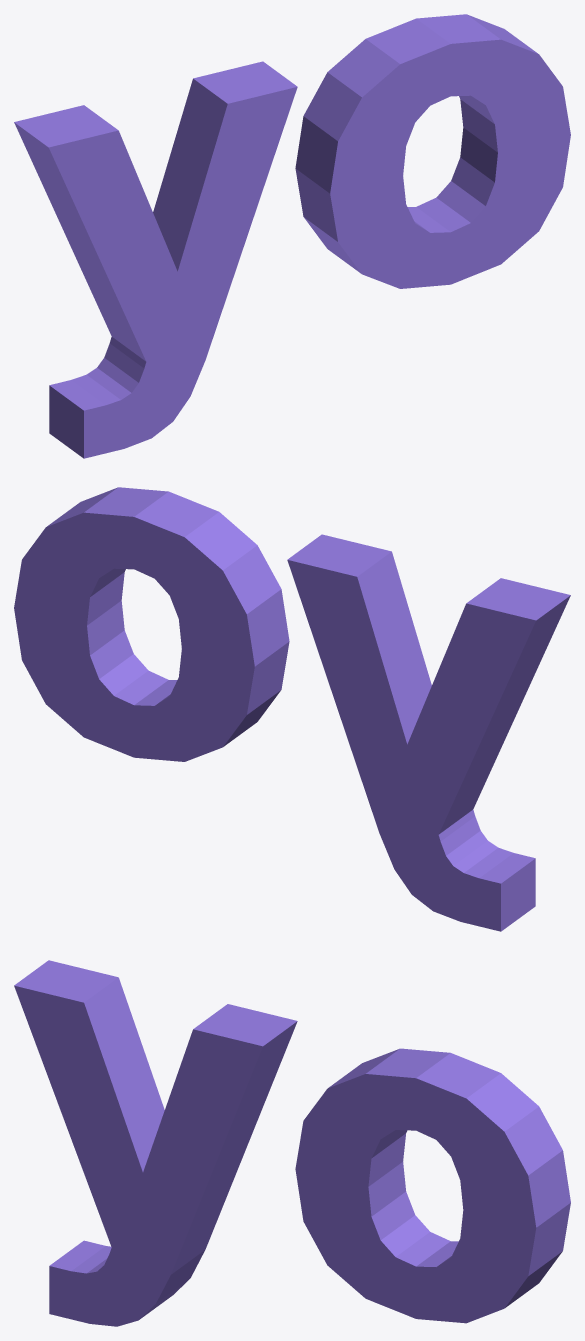
Rendered from suku_kecil_yo.glb.
3 renders of one model, top to bottom at view 1: azimuth 30°, elevation 25°; view 2: azimuth 150°, elevation 25°; view 3: azimuth 330°, elevation 25°, orthographic.
Visible parts, largest first — view 1: geometry_0; view 2: geometry_0; view 3: geometry_0.
Part boxes in pixels (x1=…): geometry_0: x1=14, y1=14, x2=570, y2=458; geometry_0: x1=14, y1=487, x2=570, y2=931; geometry_0: x1=14, y1=960, x2=570, y2=1326.
Size of the model in its own units: 13.03 by 7.76 by 1.5.
